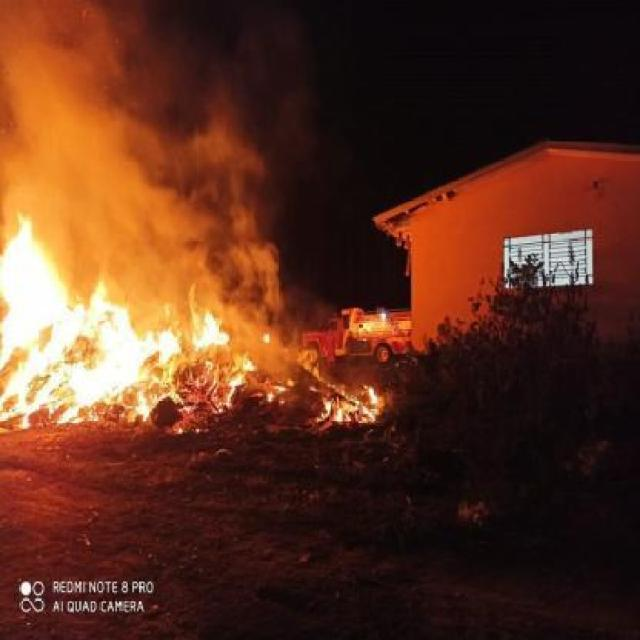Fire: (0, 230, 400, 452)
Smoke: (0, 13, 305, 318)
